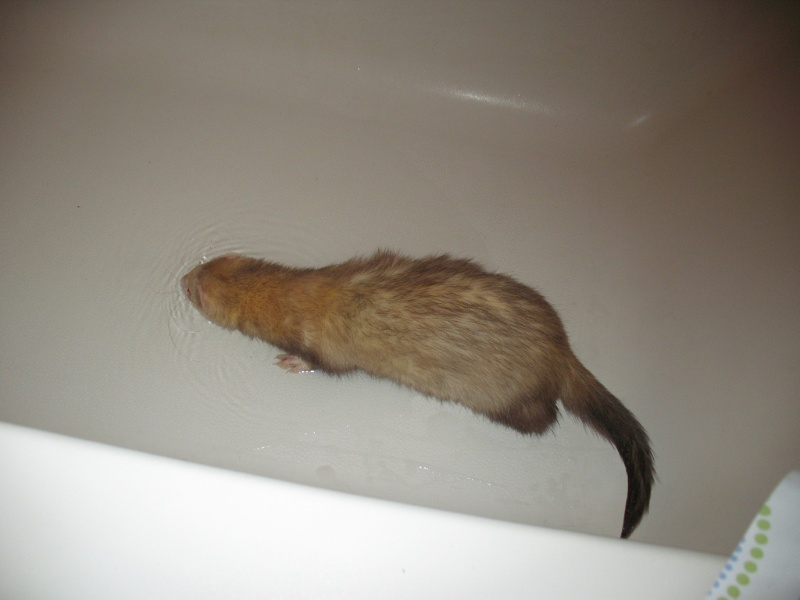minkish: (173, 236, 660, 540)
